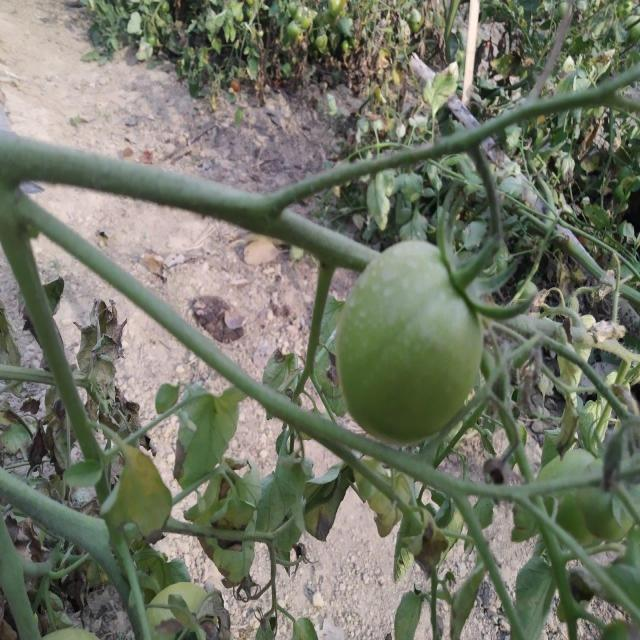Unripe: (334, 236, 483, 446)
